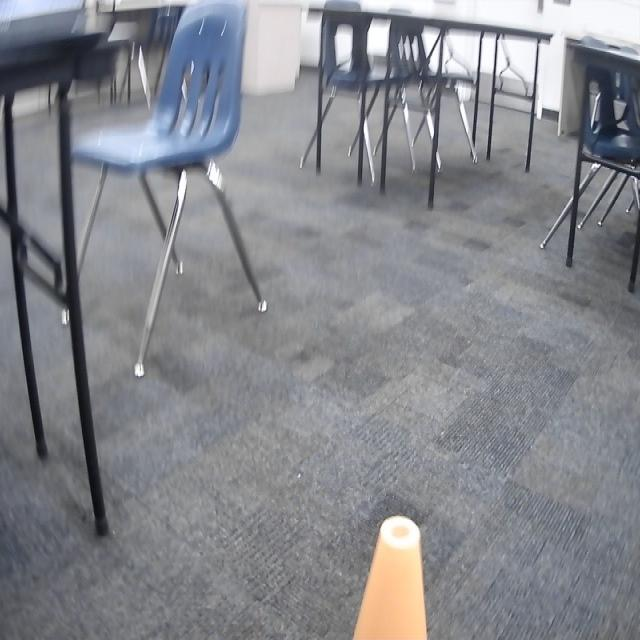cone: (347, 512, 431, 640)
